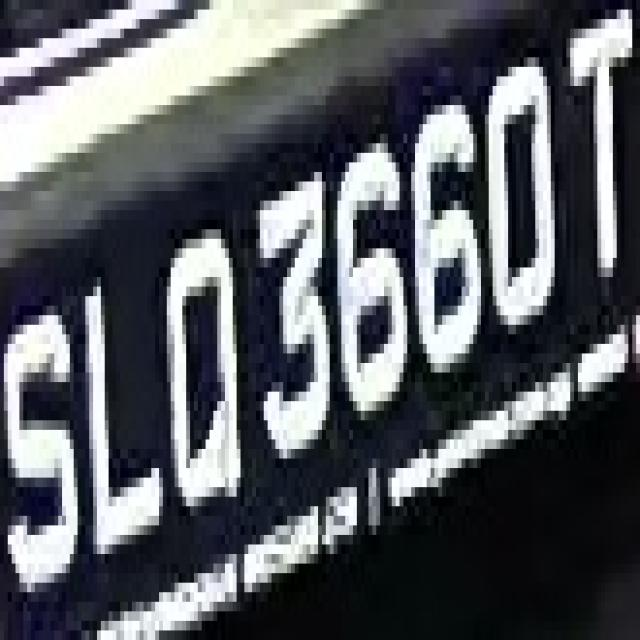0: (465, 29, 551, 382)
3: (244, 182, 334, 487)
6: (326, 86, 411, 468), (399, 105, 496, 411)
L: (62, 229, 171, 564)
Q: (144, 182, 252, 554)
S: (16, 277, 78, 630)
T: (551, 29, 640, 334)
